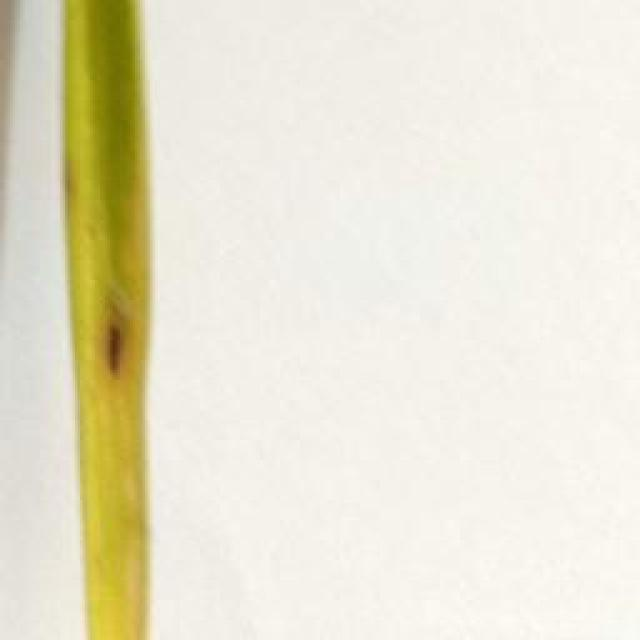Brown_Spot: (93, 290, 132, 392)
